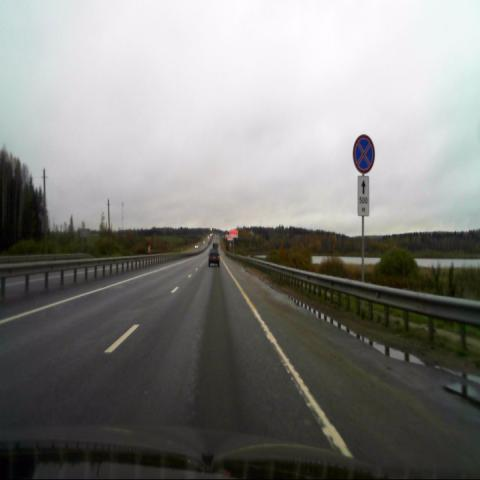8_2_2: (358, 176, 370, 215)
